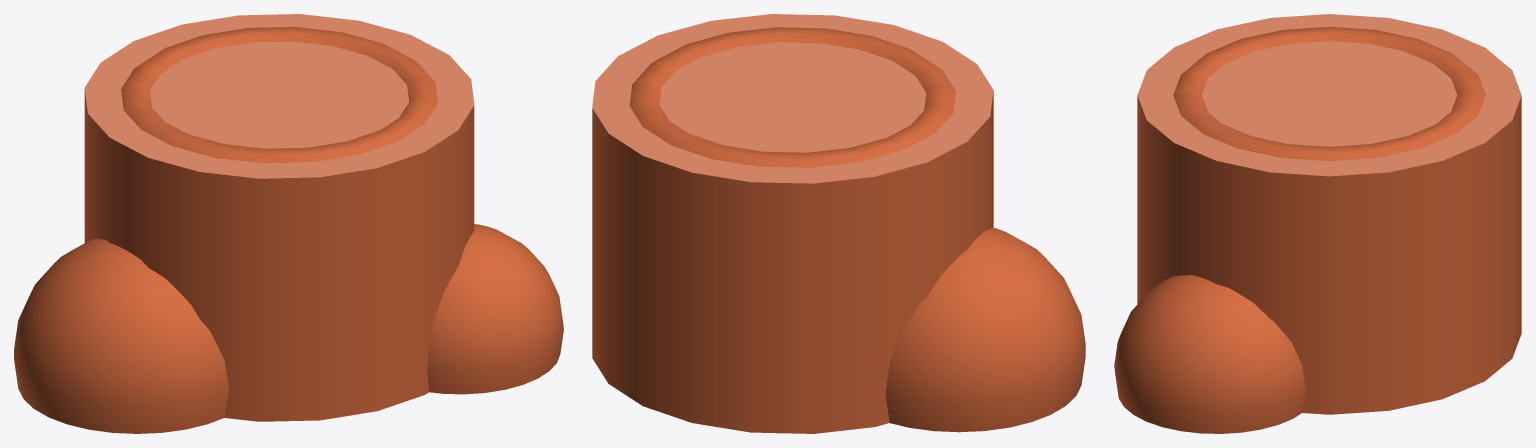
Rendered from Stump.fbx.
The picture shows the model from 3 angles, left to right: view 1: azimuth 30°, elevation 25°; view 2: azimuth 150°, elevation 25°; view 3: azimuth 270°, elevation 25°; orthographic projection. The views are drawn at different scales.
Visible parts, largest first — view 1: Stump; view 2: Stump; view 3: Stump.
Boxes of the visible parts, x1=… form: Stump: x1=14, y1=14, x2=563, y2=433; Stump: x1=592, y1=14, x2=1085, y2=433; Stump: x1=1114, y1=14, x2=1521, y2=433.
Bounding box in the file's own units: 115 × 57.65 × 87.55.
